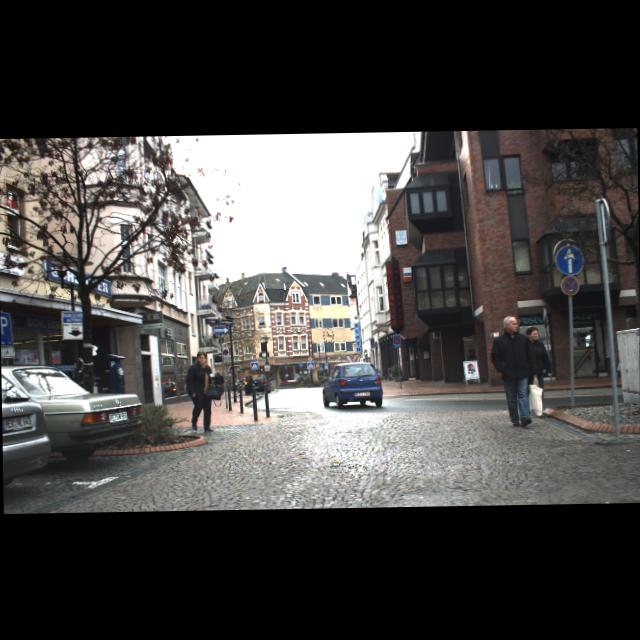mandatory: (554, 244, 584, 273)
